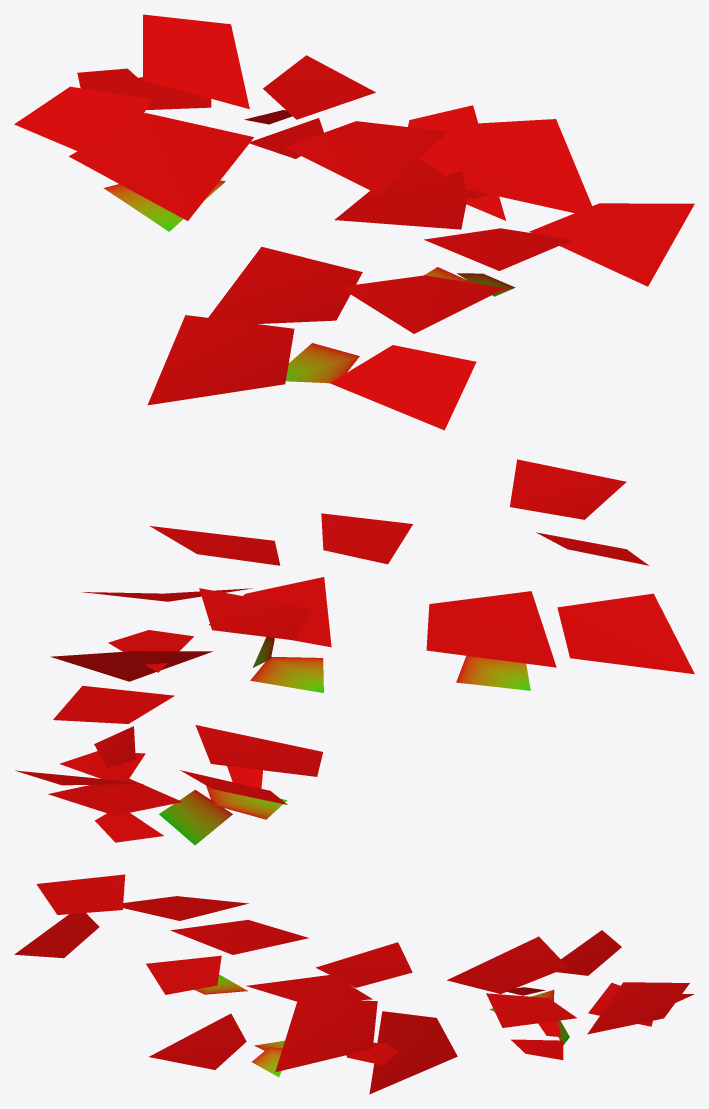
File: Var8_LOD5.fbx
The picture shows the model from 3 angles, top to bottom: view 1: azimuth 30°, elevation 25°; view 2: azimuth 150°, elevation 25°; view 3: azimuth 270°, elevation 25°; orthographic projection. The views are drawn at different scales.
Visible parts, largest first — view 1: _v0zo_Var8_LOD5; view 2: _v0zo_Var8_LOD5; view 3: _v0zo_Var8_LOD5.
Part boxes in pixels (bbox=[...]): _v0zo_Var8_LOD5: bbox=[14, 14, 694, 430]; _v0zo_Var8_LOD5: bbox=[15, 459, 694, 845]; _v0zo_Var8_LOD5: bbox=[14, 874, 694, 1094].
Bounding box in the file's own units: 39.87 × 11.58 × 55.93.
